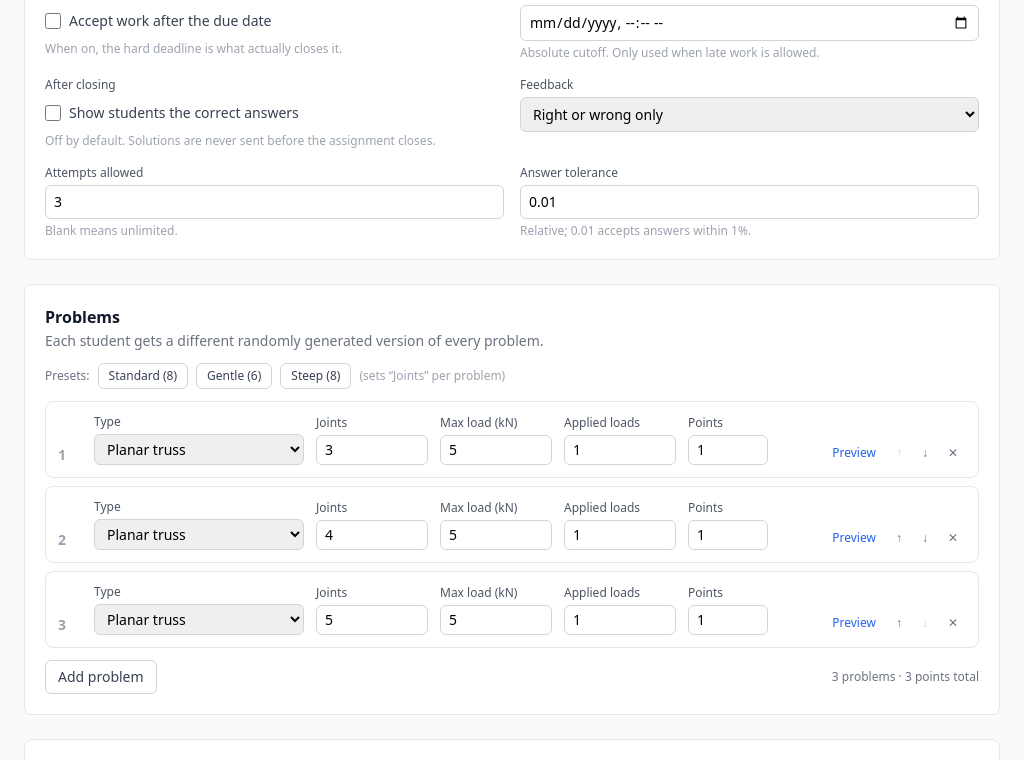
Test: assignment builder › warns about unsaved changes and clears the warning after saving
(page scrolled)
Expected: the text "3 problems · 3 points total" is shown, top-left (832, 669), bottom-right (979, 685)
Click the button "Gentle (6)" at (234, 376), box top-left (196, 363), bottom-right (272, 389)
(page scrolled)
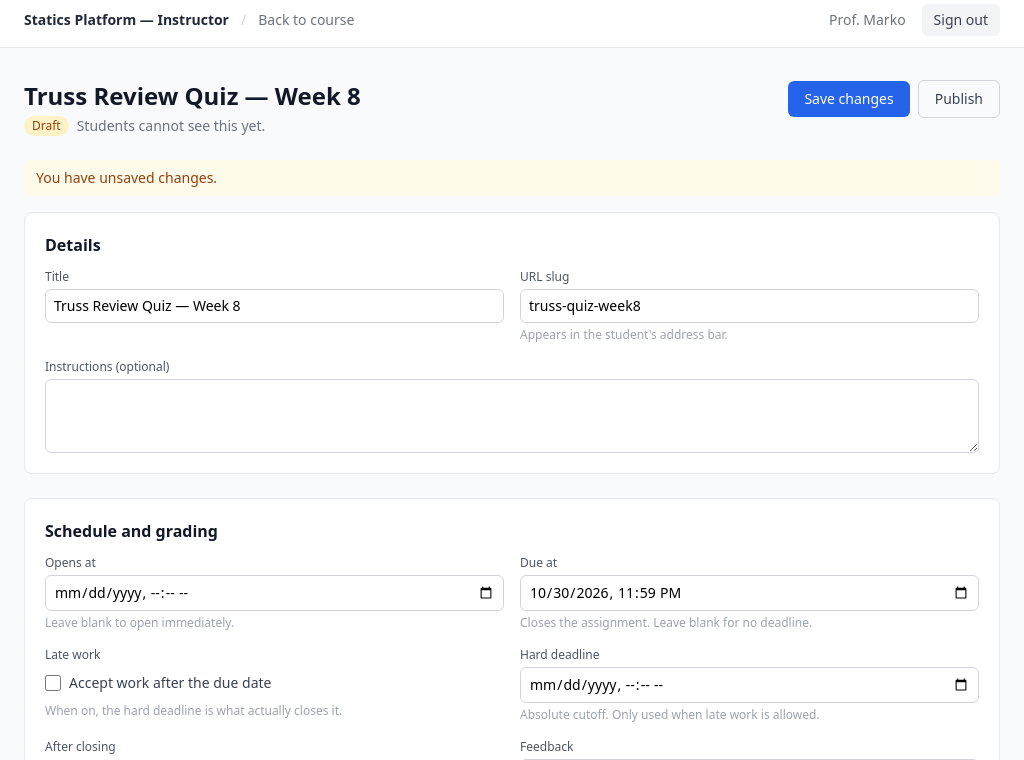
Expected: the text "You have unsaved changes." is shown, top-left (24, 160), bottom-right (1000, 196)
Click the button "Save changes" at (849, 99), box top-left (788, 81), bottom-right (910, 117)
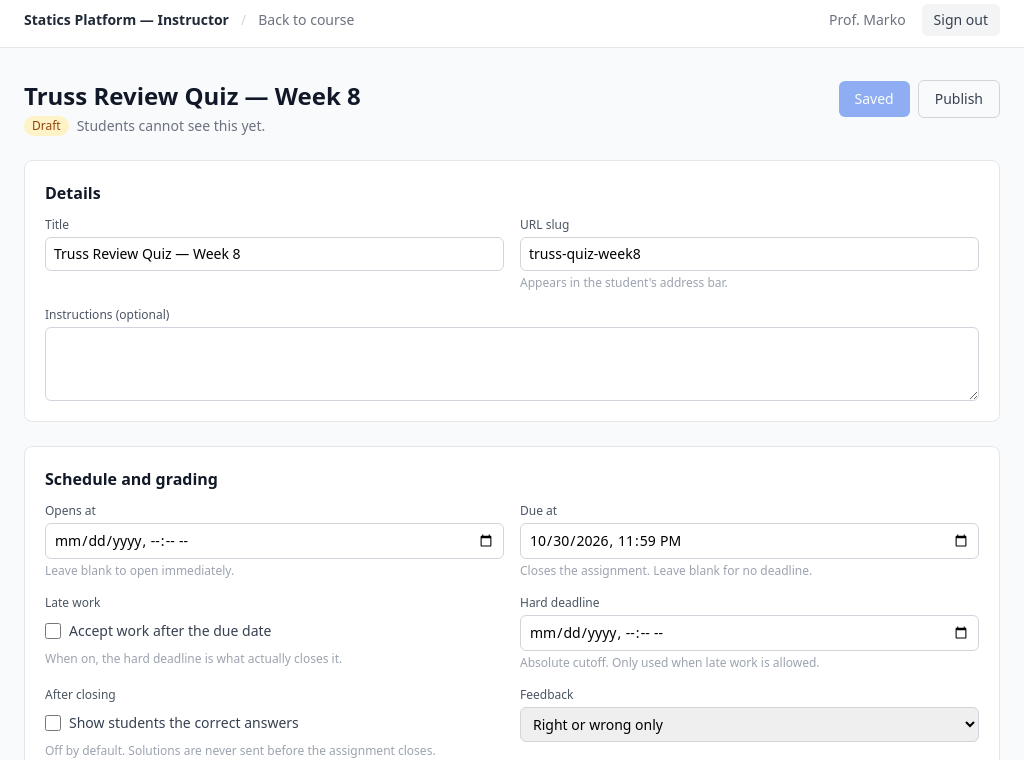
Expected: the text "unsaved changes" is gone
Expected: the button "Saved" is disabled, top-left (838, 81), bottom-right (910, 117)
